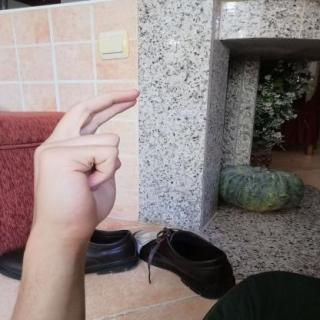ZAY: (23, 82, 152, 241)
